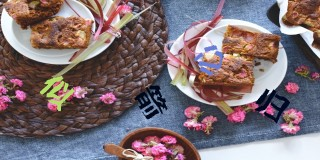似: (41, 76, 73, 111)
归: (255, 89, 290, 123)
心: (194, 44, 223, 75)
箭: (134, 84, 167, 119)
